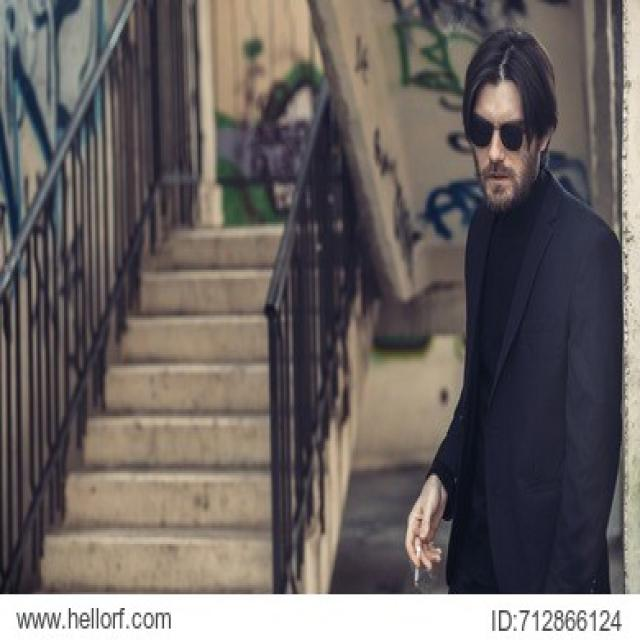cigarette: (406, 528, 430, 583)
